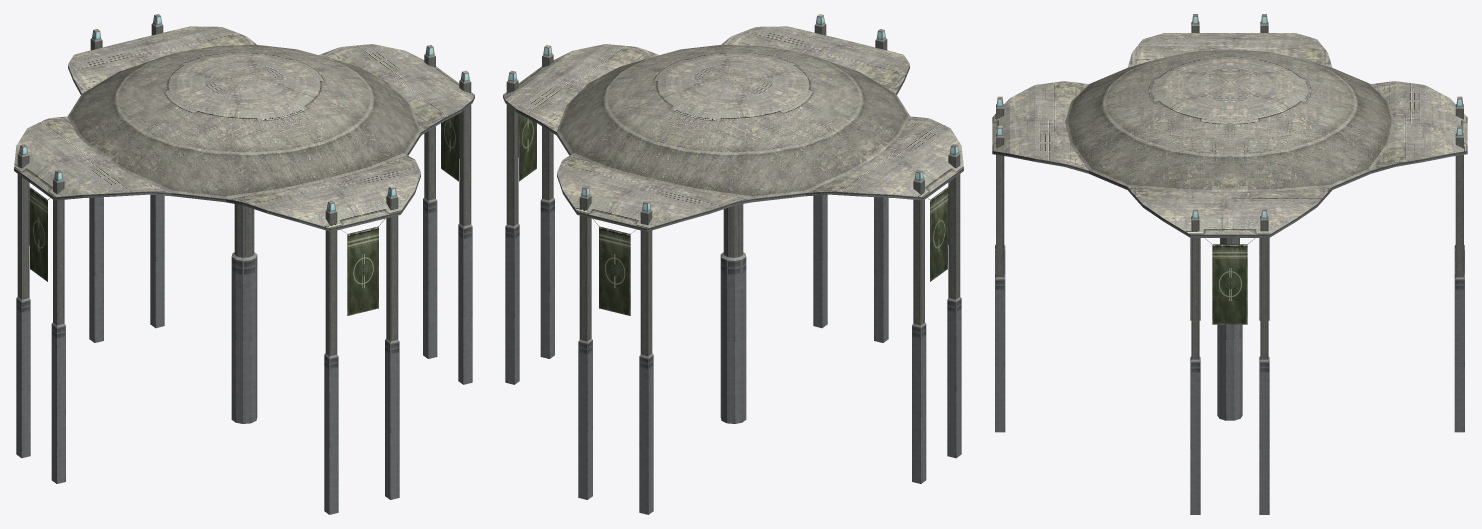
File: eqp_camping_pavilion_s2_l0.fbx
The picture shows the model from 3 angles, left to right: view 1: azimuth 30°, elevation 25°; view 2: azimuth 150°, elevation 25°; view 3: azimuth 270°, elevation 25°; orthographic projection. The views are drawn at different scales.
Parts seen in each view (by area): view 1: mesh_node; view 2: mesh_node; view 3: mesh_node.
Part boxes in pixels (x1,y1,x2,y2): mesh_node: (14,14,474,514); mesh_node: (503,14,963,514); mesh_node: (992,14,1467,514).
Bounding box in the file's own units: 19.5 × 15.12 × 19.5.
